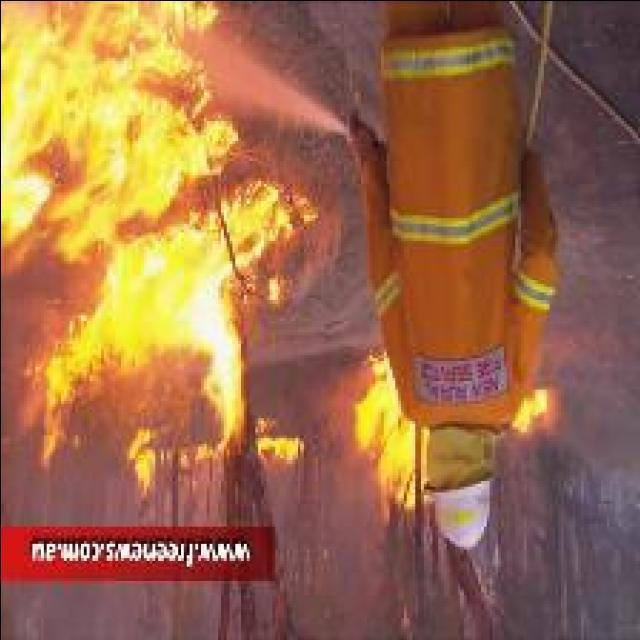Fire: (38, 174, 316, 472), (0, 0, 237, 266), (353, 348, 430, 522), (510, 388, 550, 428), (256, 436, 302, 464), (132, 448, 154, 501)
